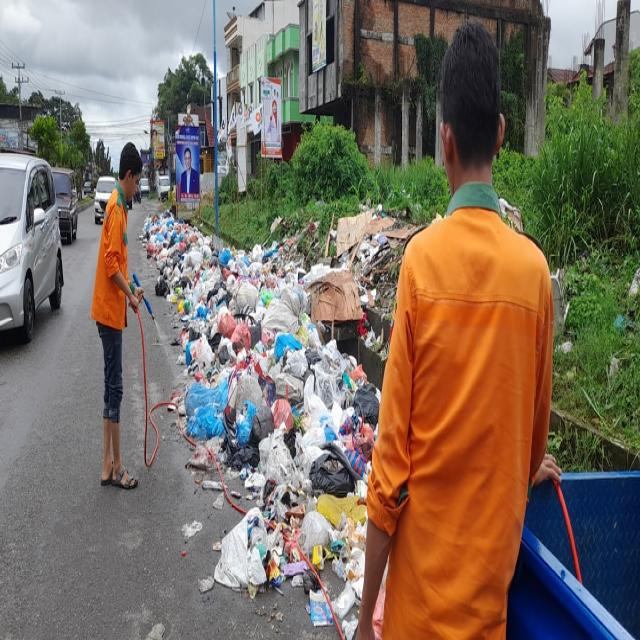trash: (183, 215, 355, 566)
